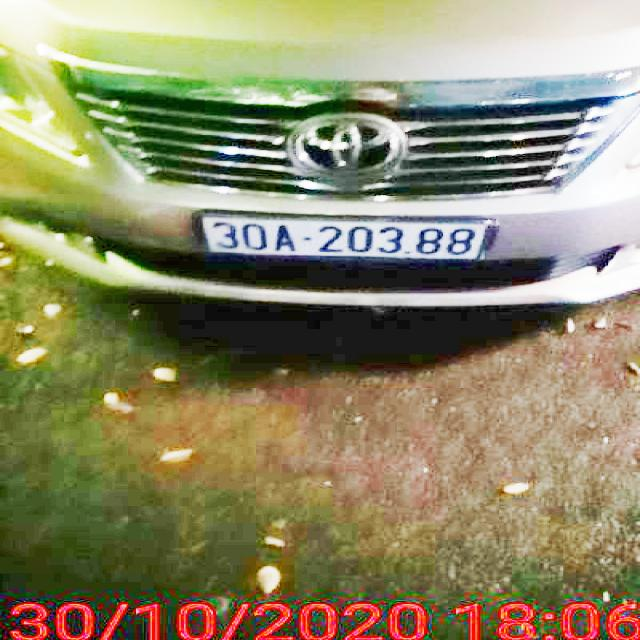license_plate: (202, 217, 492, 259)
